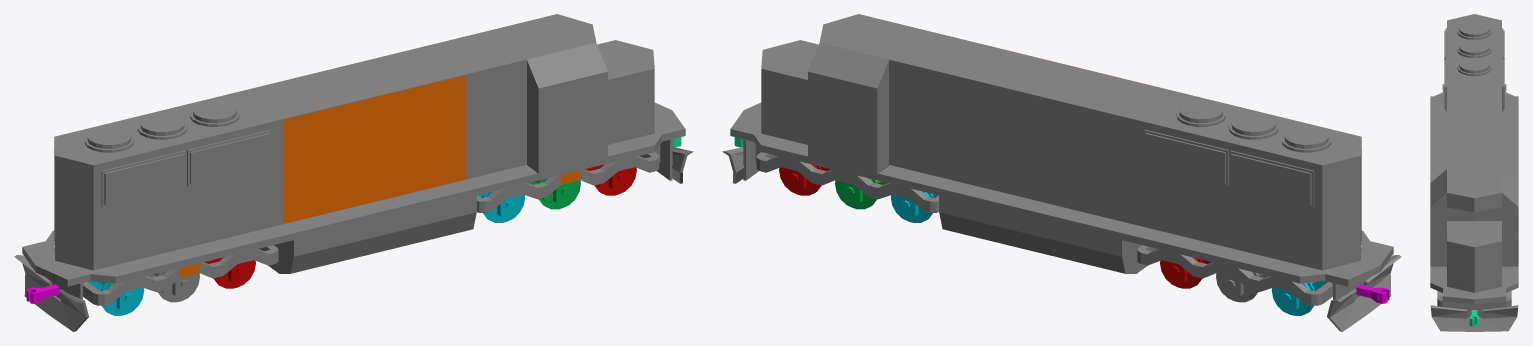
The model's file is Locomotive_USA_ColorCode.glb.
The picture shows the model from 3 angles, left to right: view 1: azimuth 30°, elevation 25°; view 2: azimuth 150°, elevation 25°; view 3: azimuth 270°, elevation 25°; orthographic projection. The views are drawn at different scales.
Visible parts, largest first — view 1: Locomotive_USA_Hull, Locomotive_USA_Bogie_2, Locomotive_USA_Bogie_1; view 2: Locomotive_USA_Hull, Locomotive_USA_Bogie_2, Locomotive_USA_Bogie_1; view 3: Locomotive_USA_Hull, Locomotive_USA_Bogie_1, Locomotive_USA_Coupler_Front.
Part boxes in pixels (<box>): Locomotive_USA_Hull: <box>14,14,693,331</box>; Locomotive_USA_Bogie_2: <box>83,245,278,315</box>; Locomotive_USA_Bogie_1: <box>477,152,659,222</box>; Locomotive_USA_Hull: <box>722,14,1401,331</box>; Locomotive_USA_Bogie_2: <box>1137,245,1332,315</box>; Locomotive_USA_Bogie_1: <box>756,152,938,222</box>; Locomotive_USA_Hull: <box>1430,14,1518,331</box>; Locomotive_USA_Bogie_1: <box>1437,291,1511,306</box>; Locomotive_USA_Coupler_Front: <box>1469,310,1479,326</box>.
Size of the model in its own units: 1.68 by 0.416 by 0.2807.
5 materials, 3 textured.
